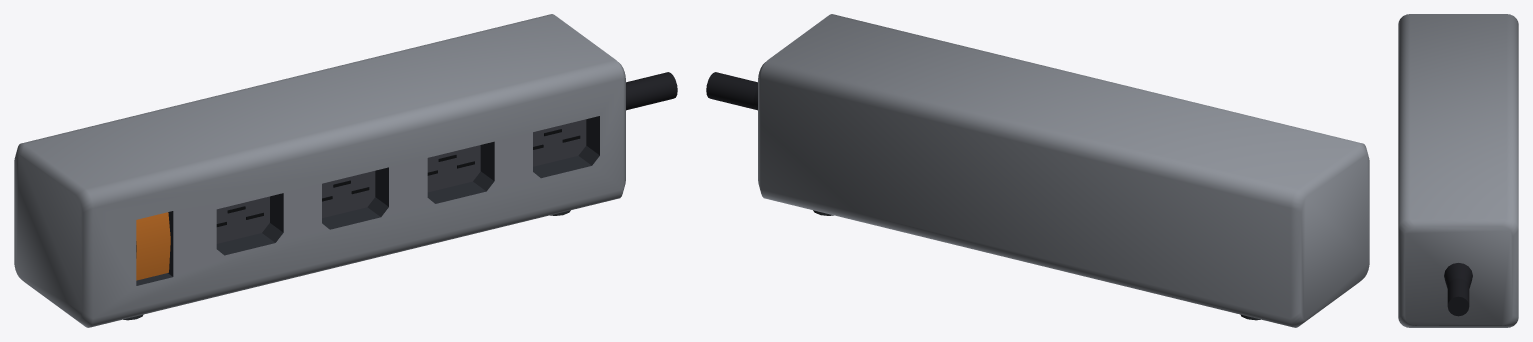
Rendered from multiprise-secteur.glb.
3 renders of one model, left to right at view 1: azimuth 30°, elevation 25°; view 2: azimuth 150°, elevation 25°; view 3: azimuth 270°, elevation 25°, orthographic. The views are drawn at different scales.
Visible parts, largest first — view 1: multiprise-secteur-body; view 2: multiprise-secteur-body; view 3: multiprise-secteur-body.
Part boxes in pixels (x1,y1,x2,y2): multiprise-secteur-body: (14, 14, 677, 327); multiprise-secteur-body: (706, 14, 1369, 327); multiprise-secteur-body: (1398, 14, 1518, 327).
Size of the model in its own units: 0.236 by 0.052 by 0.05.
